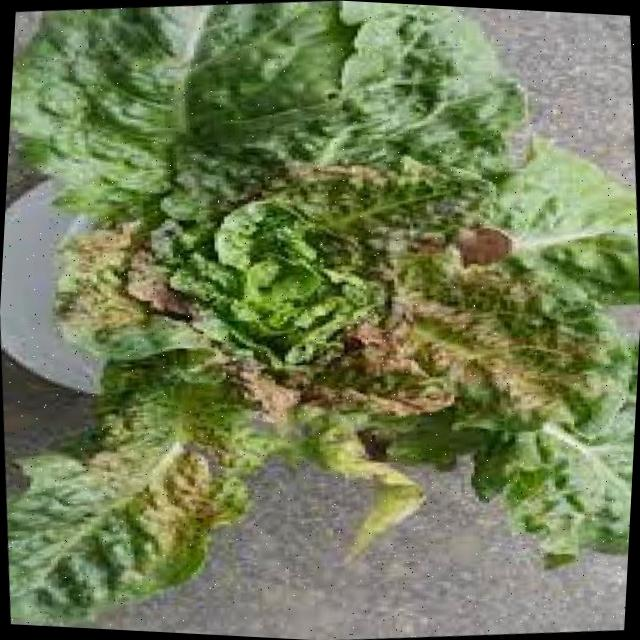Powdery_Mildew: (100, 125, 563, 454)
